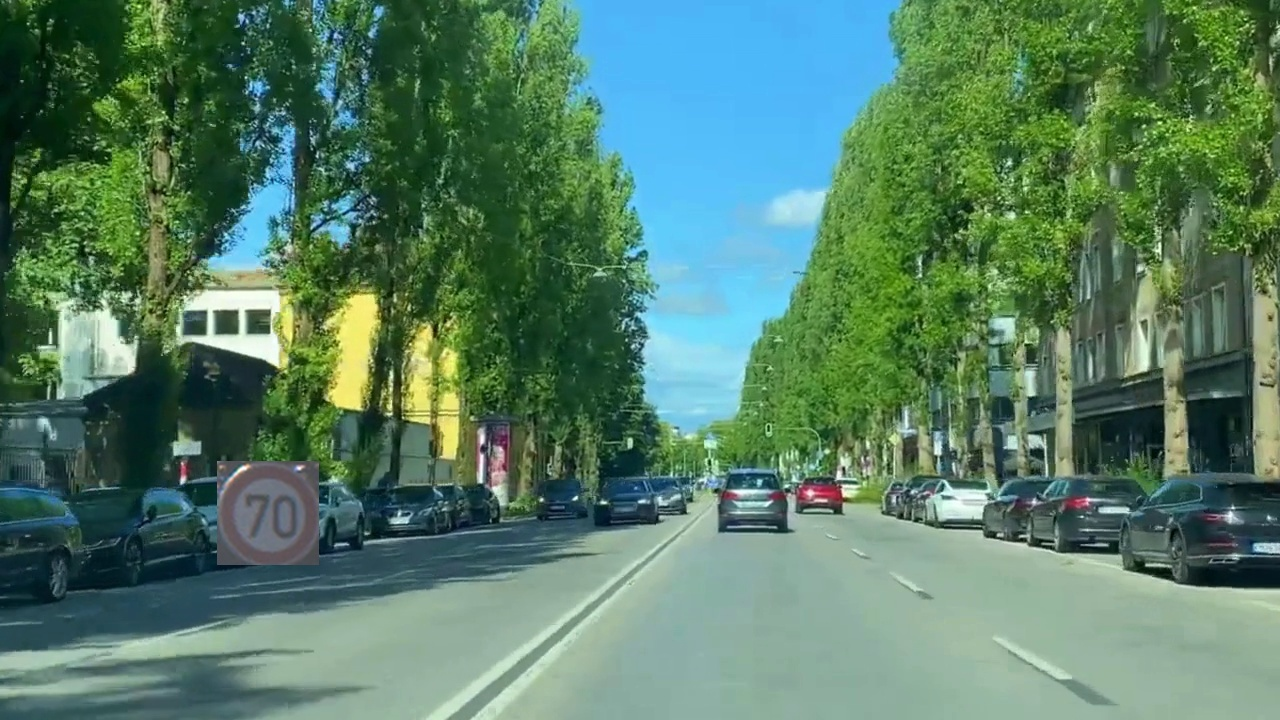Speed 70: (217, 461, 319, 565)
